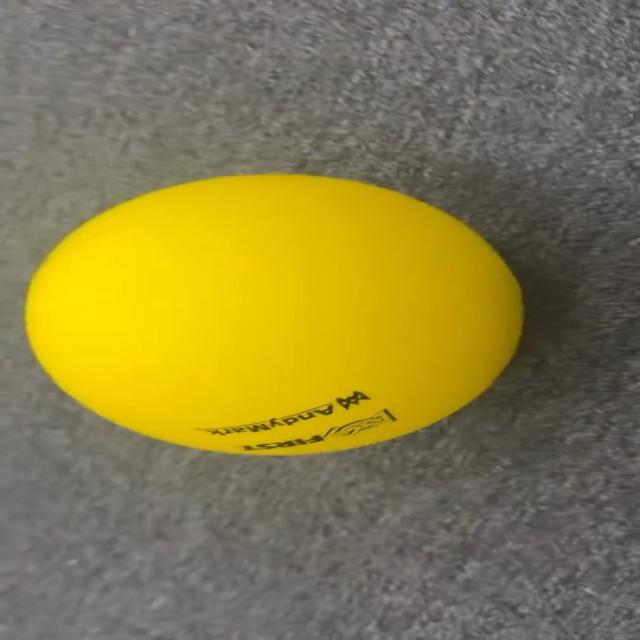Fuels: (27, 177, 526, 450)
